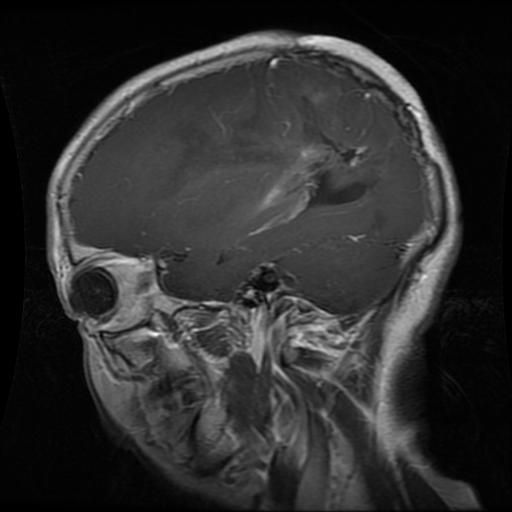Gliomia_tumour: (247, 96, 373, 234)
